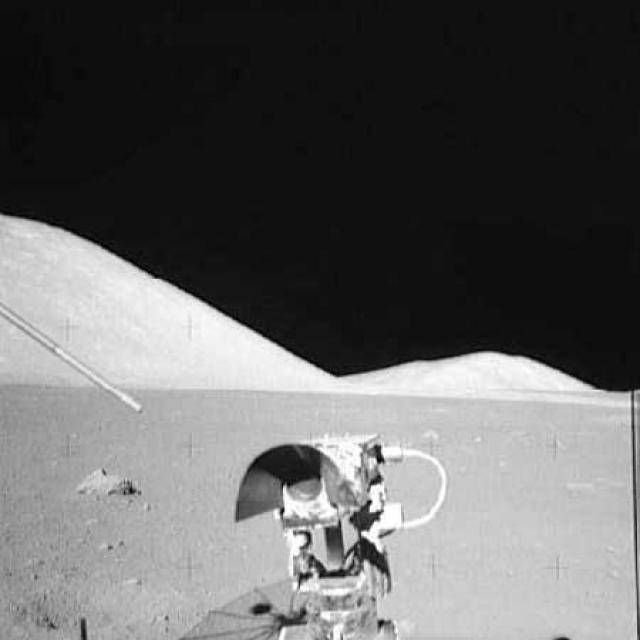artifact: (224, 428, 453, 639), (0, 297, 145, 418)
rock: (71, 464, 138, 503)
